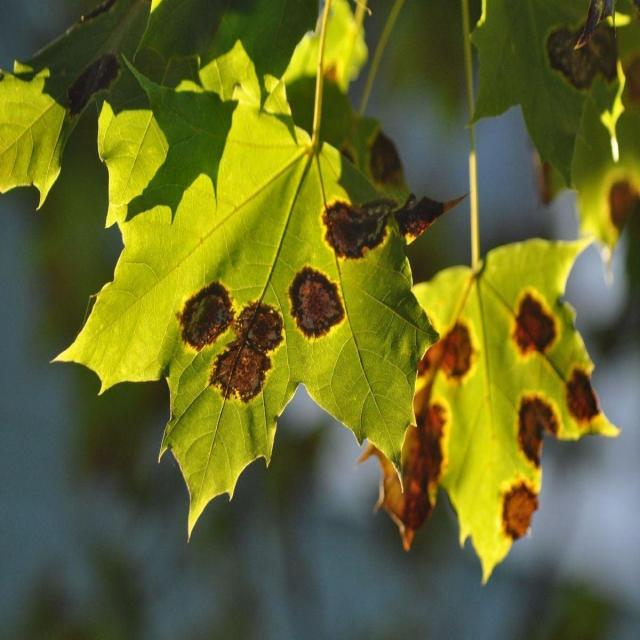blight: (175, 233, 346, 389)
